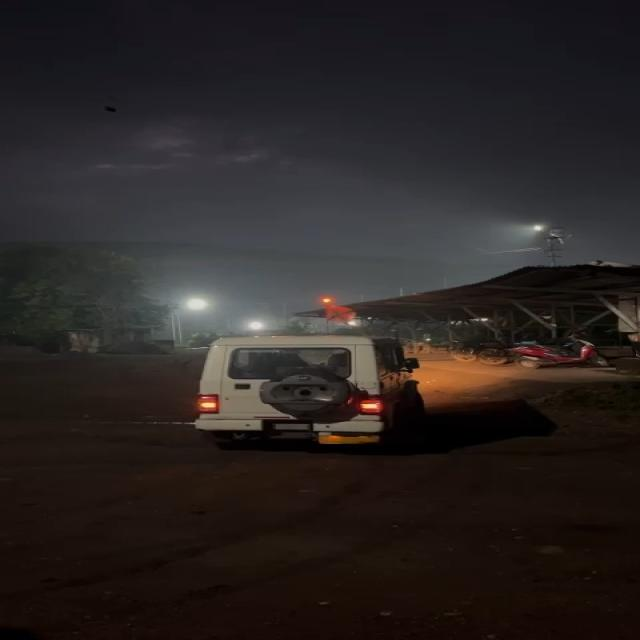light_vehicle: (170, 334, 420, 454)
